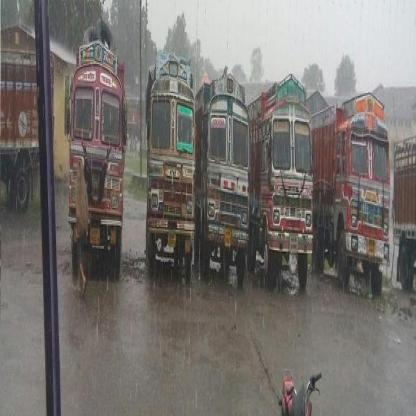truck: (310, 65, 388, 295), (66, 28, 126, 289), (248, 63, 312, 295), (190, 57, 250, 291), (143, 43, 197, 300), (1, 23, 51, 200), (392, 122, 414, 284)
